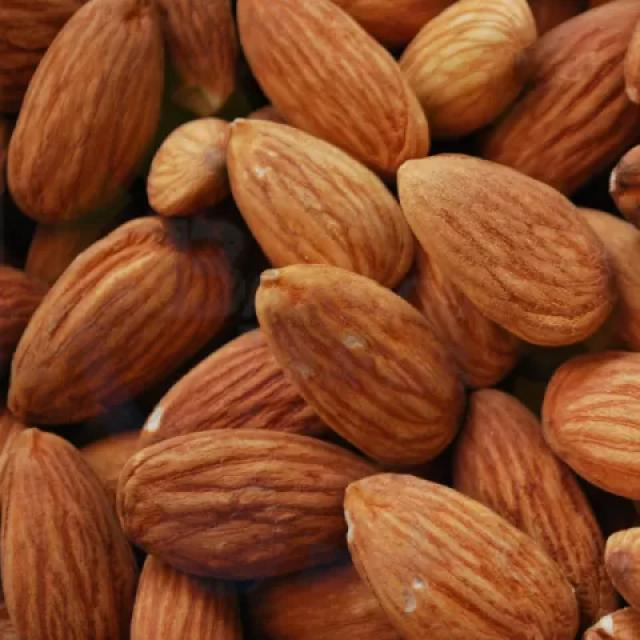almond: (7, 213, 245, 425), (390, 152, 617, 345), (252, 264, 467, 464), (339, 470, 589, 640), (115, 432, 375, 583), (452, 393, 617, 620), (218, 115, 422, 290), (9, 0, 168, 223), (237, 0, 437, 175), (473, 0, 640, 186), (0, 425, 138, 640), (396, 0, 541, 143), (543, 350, 640, 495)
